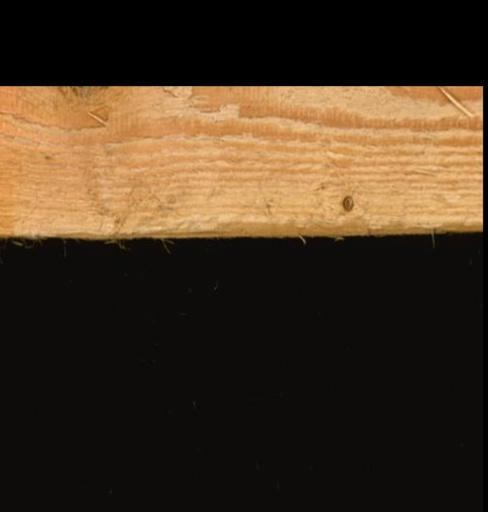dry_knot: (340, 193, 354, 214)
wave: (56, 219, 482, 238)
